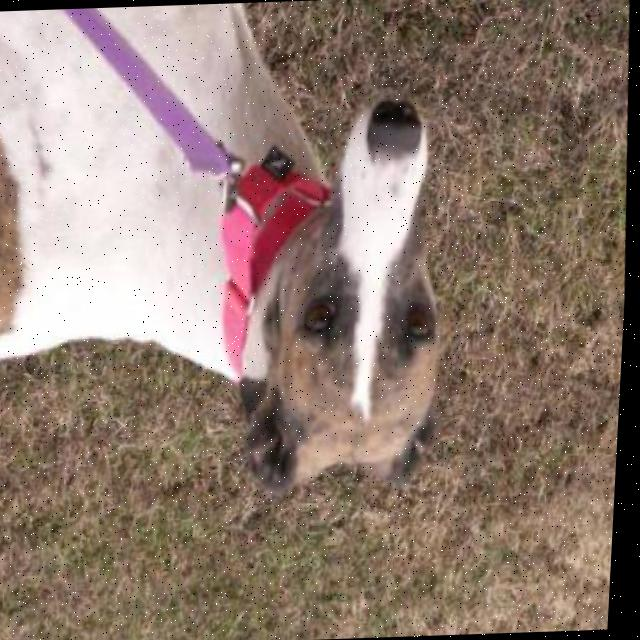dogs: (0, 0, 480, 528)
